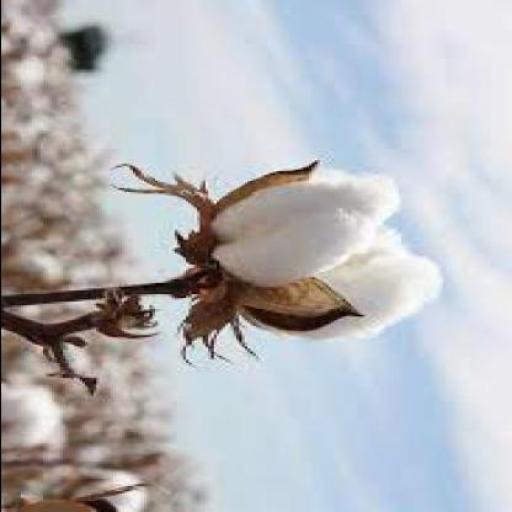cotton_ready: (179, 125, 428, 361)
